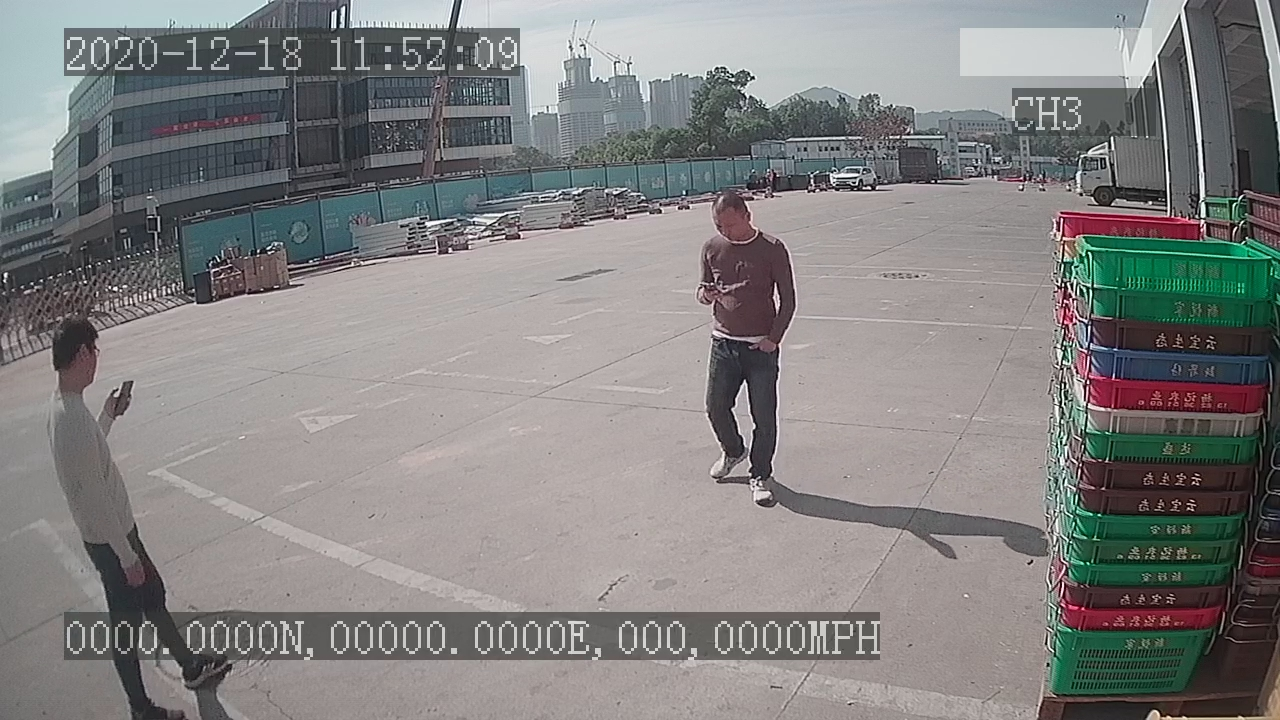person: (683, 183, 801, 513)
